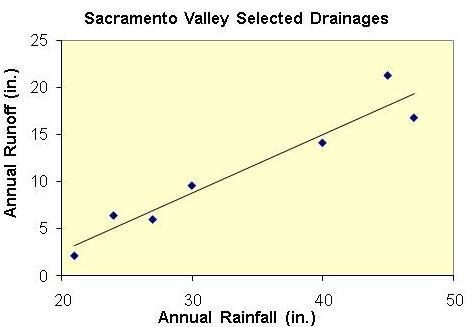axis: (55, 272, 458, 282), (55, 34, 65, 283)
point: (183, 178, 199, 194), (106, 208, 121, 224), (381, 69, 397, 83), (406, 112, 421, 126), (315, 137, 330, 149), (68, 250, 81, 263), (147, 214, 160, 225)
